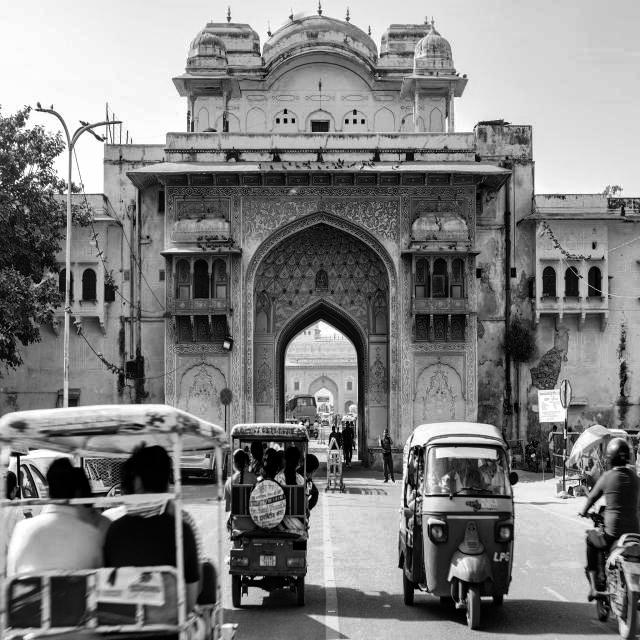Toto: (0, 397, 230, 640), (229, 418, 313, 604)
